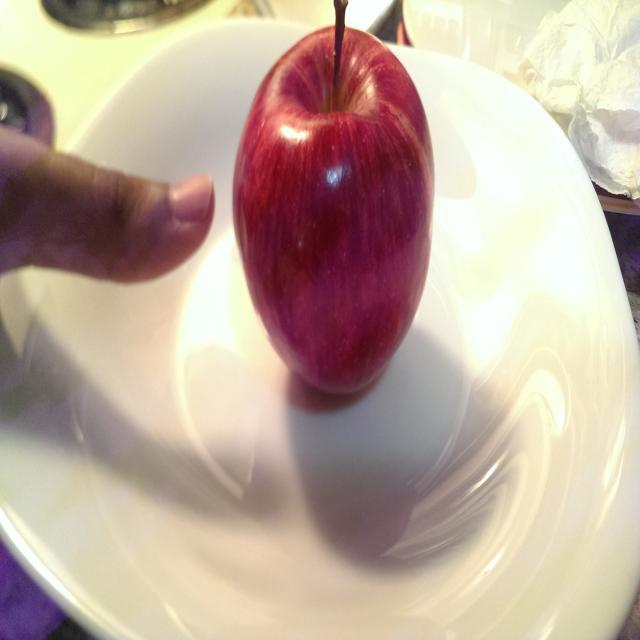Apple: (226, 1, 445, 410)
Finger: (81, 146, 220, 294)
